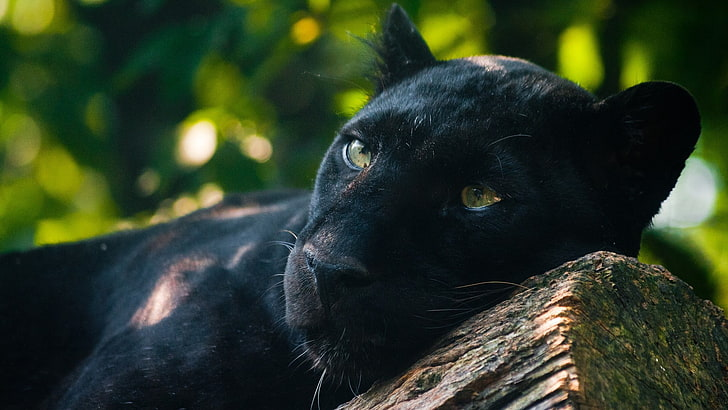panther: (246, 5, 720, 394)
